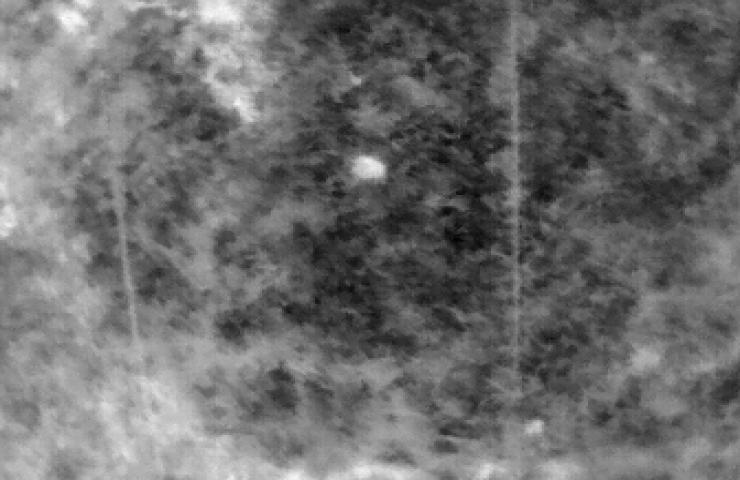landmines: (353, 153, 390, 184)
